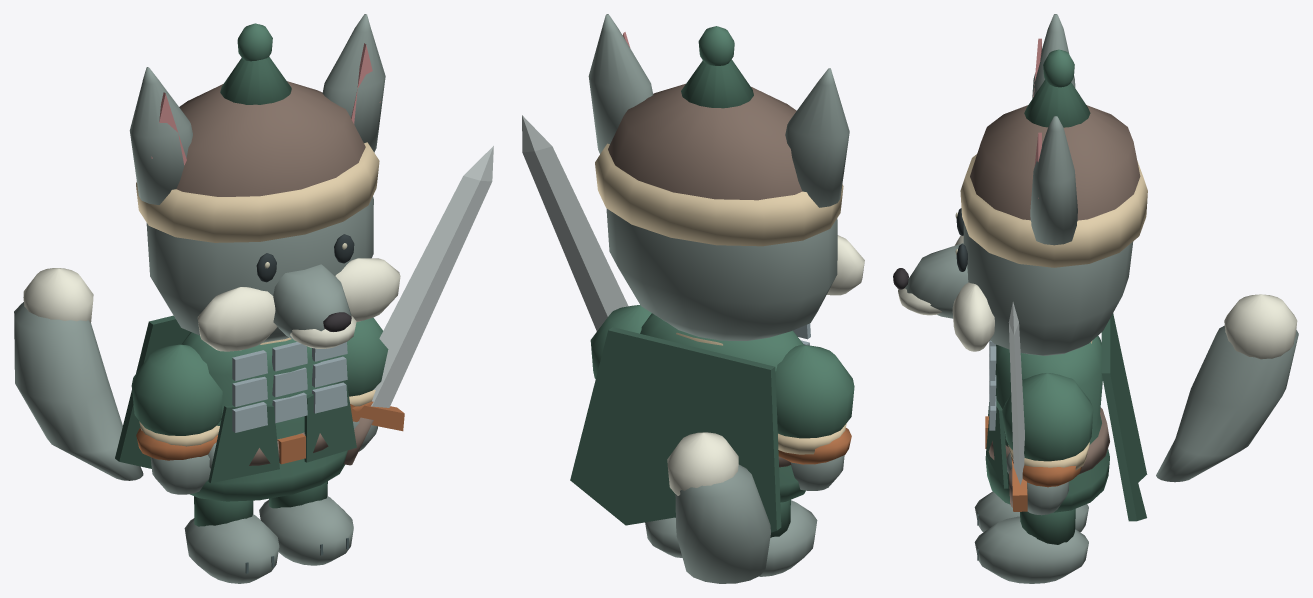
File: giant.glb
3 views of the same model, side by side, from view 1: azimuth 30°, elevation 25°; view 2: azimuth 150°, elevation 25°; view 3: azimuth 270°, elevation 25° (orthographic). The views are drawn at different scales.
Parts seen in each view (by area): view 1: Regional helmet, Plush sweeping tail, Animal cheek head, Fur hat brim, Shaped bevel sword, Short folded tunic, Puff sleeve, Tall animal ear, Soft animal paw, Soft animal paw.001, Tall animal ear.001, Light cheek fluff (+25 smaller); view 2: Short scalloped cape, Animal cheek head, Regional helmet, Fur hat brim, Plush sweeping tail, Shaped bevel sword, Puff sleeve, Tall animal ear, Tall animal ear.001, Short folded tunic, Tail pale tip, Mongol pointed cap (+8 smaller); view 3: Animal cheek head, Regional helmet, Plush sweeping tail, Fur hat brim, Short folded tunic, Puff sleeve.001, Soft animal paw.001, Tall animal ear.001, Short scalloped cape, Tail pale tip, Long pointed muzzle, Light cheek fluff.001 (+13 smaller).
Part boxes in pixels (bbox=[...]): Regional helmet: bbox=[176, 81, 365, 196]; Plush sweeping tail: bbox=[14, 302, 143, 480]; Animal cheek head: bbox=[146, 196, 373, 342]; Fur hat brim: bbox=[136, 142, 379, 242]; Shaped bevel sword: bbox=[371, 146, 493, 407]; Short folded tunic: bbox=[181, 332, 347, 501]; Puff sleeve: bbox=[131, 344, 222, 435]; Tall animal ear: bbox=[129, 67, 192, 204]; Soft animal paw: bbox=[184, 514, 279, 583]; Soft animal paw.001: bbox=[259, 496, 353, 565]; Tall animal ear.001: bbox=[322, 14, 385, 152]; Light cheek fluff: bbox=[197, 287, 277, 351]; Short scalloped cape: bbox=[570, 327, 781, 532]; Animal cheek head: bbox=[606, 208, 837, 340]; Regional helmet: bbox=[608, 83, 802, 200]; Fur hat brim: bbox=[595, 143, 843, 246]; Plush sweeping tail: bbox=[675, 464, 770, 583]; Shaped bevel sword: bbox=[522, 115, 628, 331]; Puff sleeve: bbox=[775, 345, 854, 438]; Tall animal ear: bbox=[785, 68, 849, 207]; Tall animal ear.001: bbox=[588, 14, 653, 153]; Short folded tunic: bbox=[640, 313, 805, 502]; Tail pale tip: bbox=[667, 432, 738, 495]; Mongol pointed cap: bbox=[681, 59, 753, 108]; Animal cheek head: bbox=[963, 223, 1133, 355]; Regional helmet: bbox=[970, 105, 1140, 220]; Plush sweeping tail: bbox=[1156, 325, 1298, 482]; Fur hat brim: bbox=[960, 154, 1147, 267]; Short folded tunic: bbox=[985, 335, 1109, 512]; Puff sleeve.001: bbox=[1002, 373, 1093, 461]; Soft animal paw.001: bbox=[974, 516, 1088, 583]; Tall animal ear.001: bbox=[1030, 116, 1077, 245]; Short scalloped cape: bbox=[1101, 313, 1147, 521]; Tail pale tip: bbox=[1224, 294, 1297, 359]; Long pointed muzzle: bbox=[905, 243, 968, 318]; Light cheek fluff.001: bbox=[952, 282, 994, 351].
Size of the model in its own units: 1.74 by 2.49 by 1.79.
